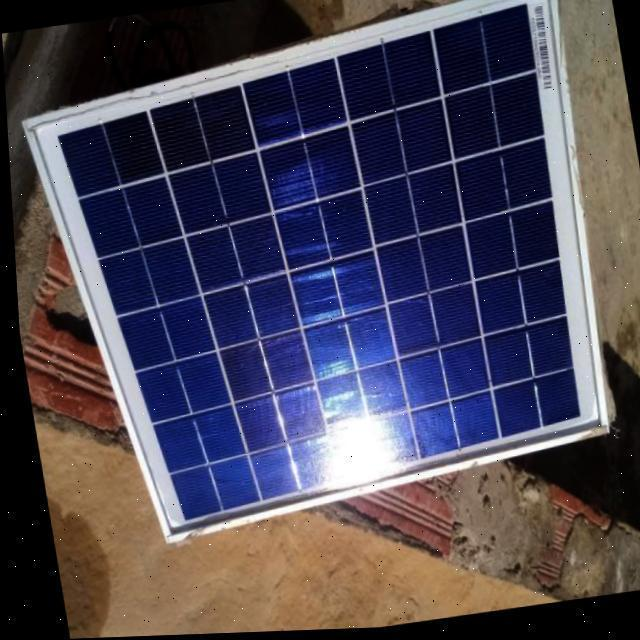Normal Solar Panel: (9, 0, 632, 552)
